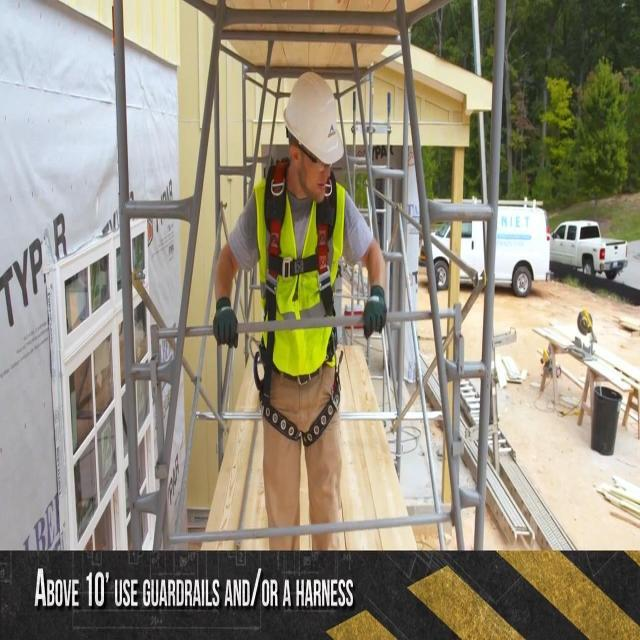white helmet: (271, 63, 359, 171)
